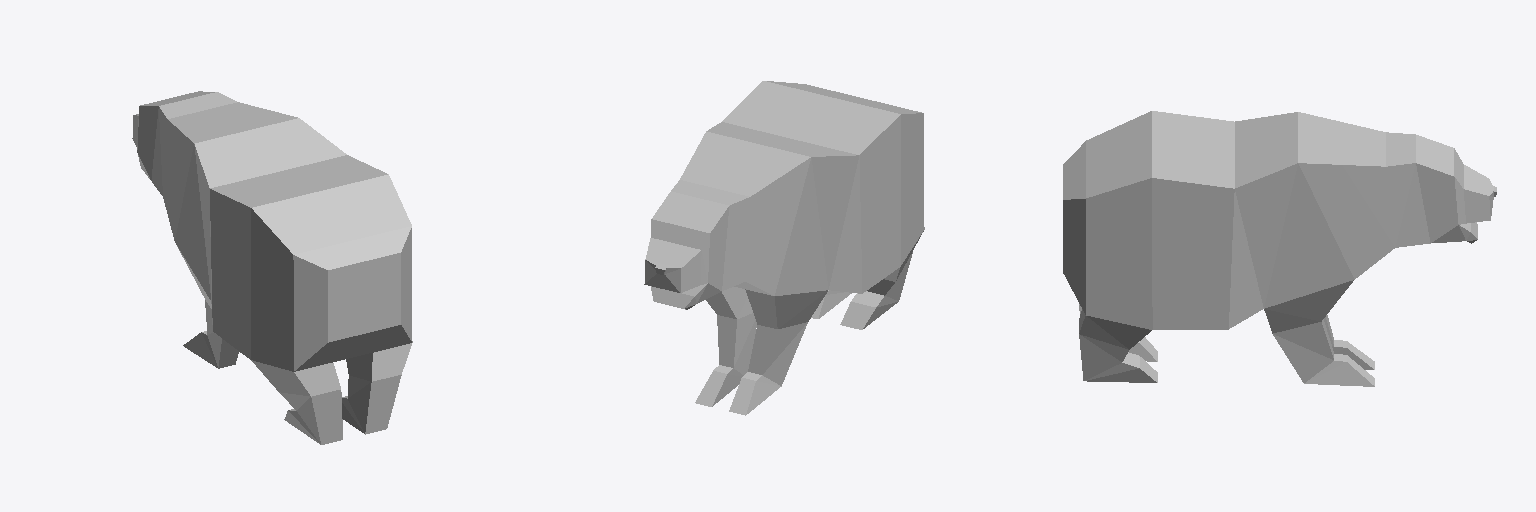
The model's file is bear.obj.
3 views of the same model, side by side, from view 1: azimuth 30°, elevation 25°; view 2: azimuth 150°, elevation 25°; view 3: azimuth 270°, elevation 25° (orthographic).
Visible parts, largest first — view 1: Cube_Cube.001; view 2: Cube_Cube.001; view 3: Cube_Cube.001.
Part boxes in pixels (x1,y1,x2,y2): Cube_Cube.001: (132,91,412,444); Cube_Cube.001: (644,81,924,415); Cube_Cube.001: (1063,111,1496,386).
Bounding box in the file's own units: 1.47 × 2.42 × 4.02.